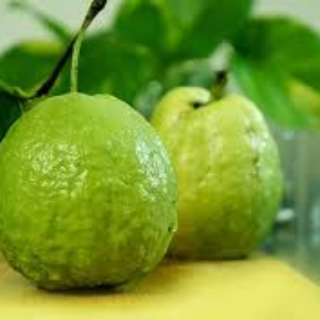oi: (1, 88, 182, 296)
